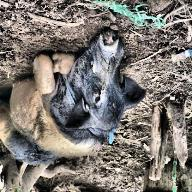boar: (0, 28, 146, 166)
